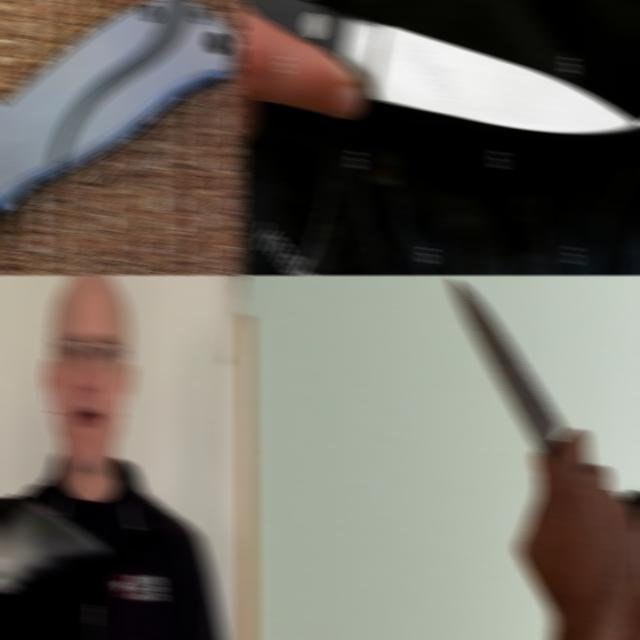Knife: (242, 0, 638, 133), (450, 279, 565, 454)
Knife_Handle: (453, 275, 640, 618), (240, 0, 640, 144), (0, 500, 107, 640)
